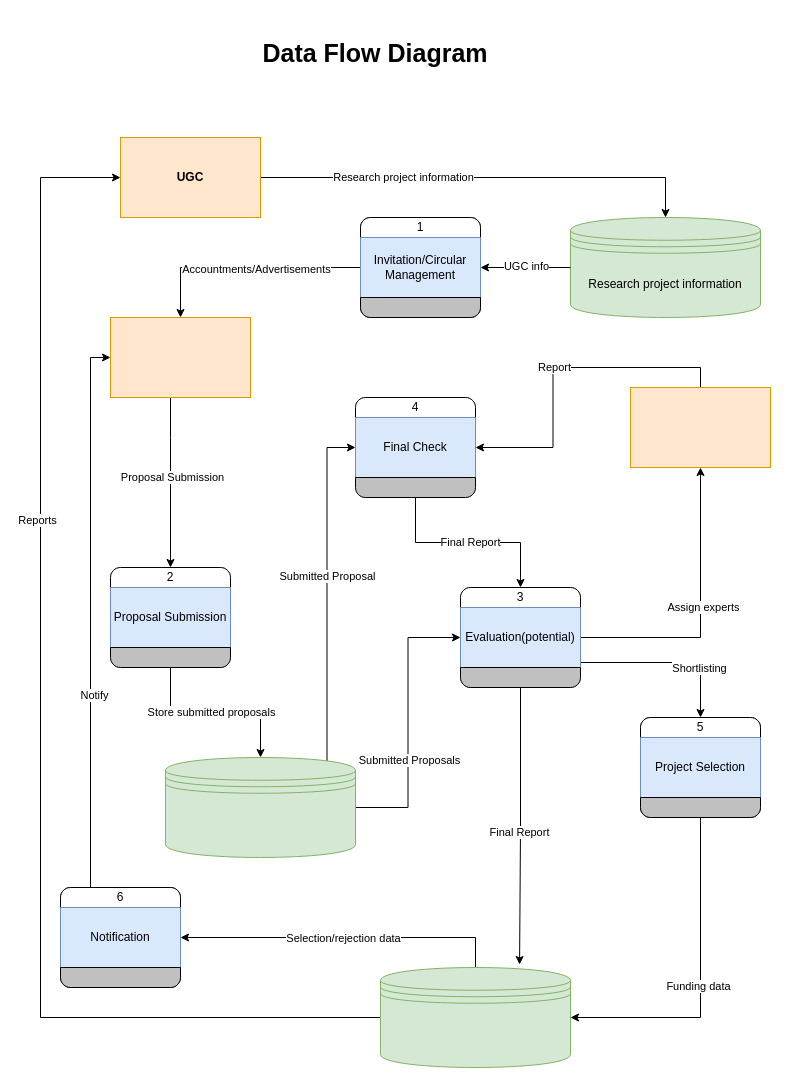
This 788x1085 diagram has some shape labels left out. The shapes that lost their labels are listed below. From the top down, each one's centre as x and y in pixels, then its label:
At point 180,357: "Researchers".
At point 700,427: "Experts".
At point 260,807: "Proposal information".
At point 475,1017: "Evaluation data".
